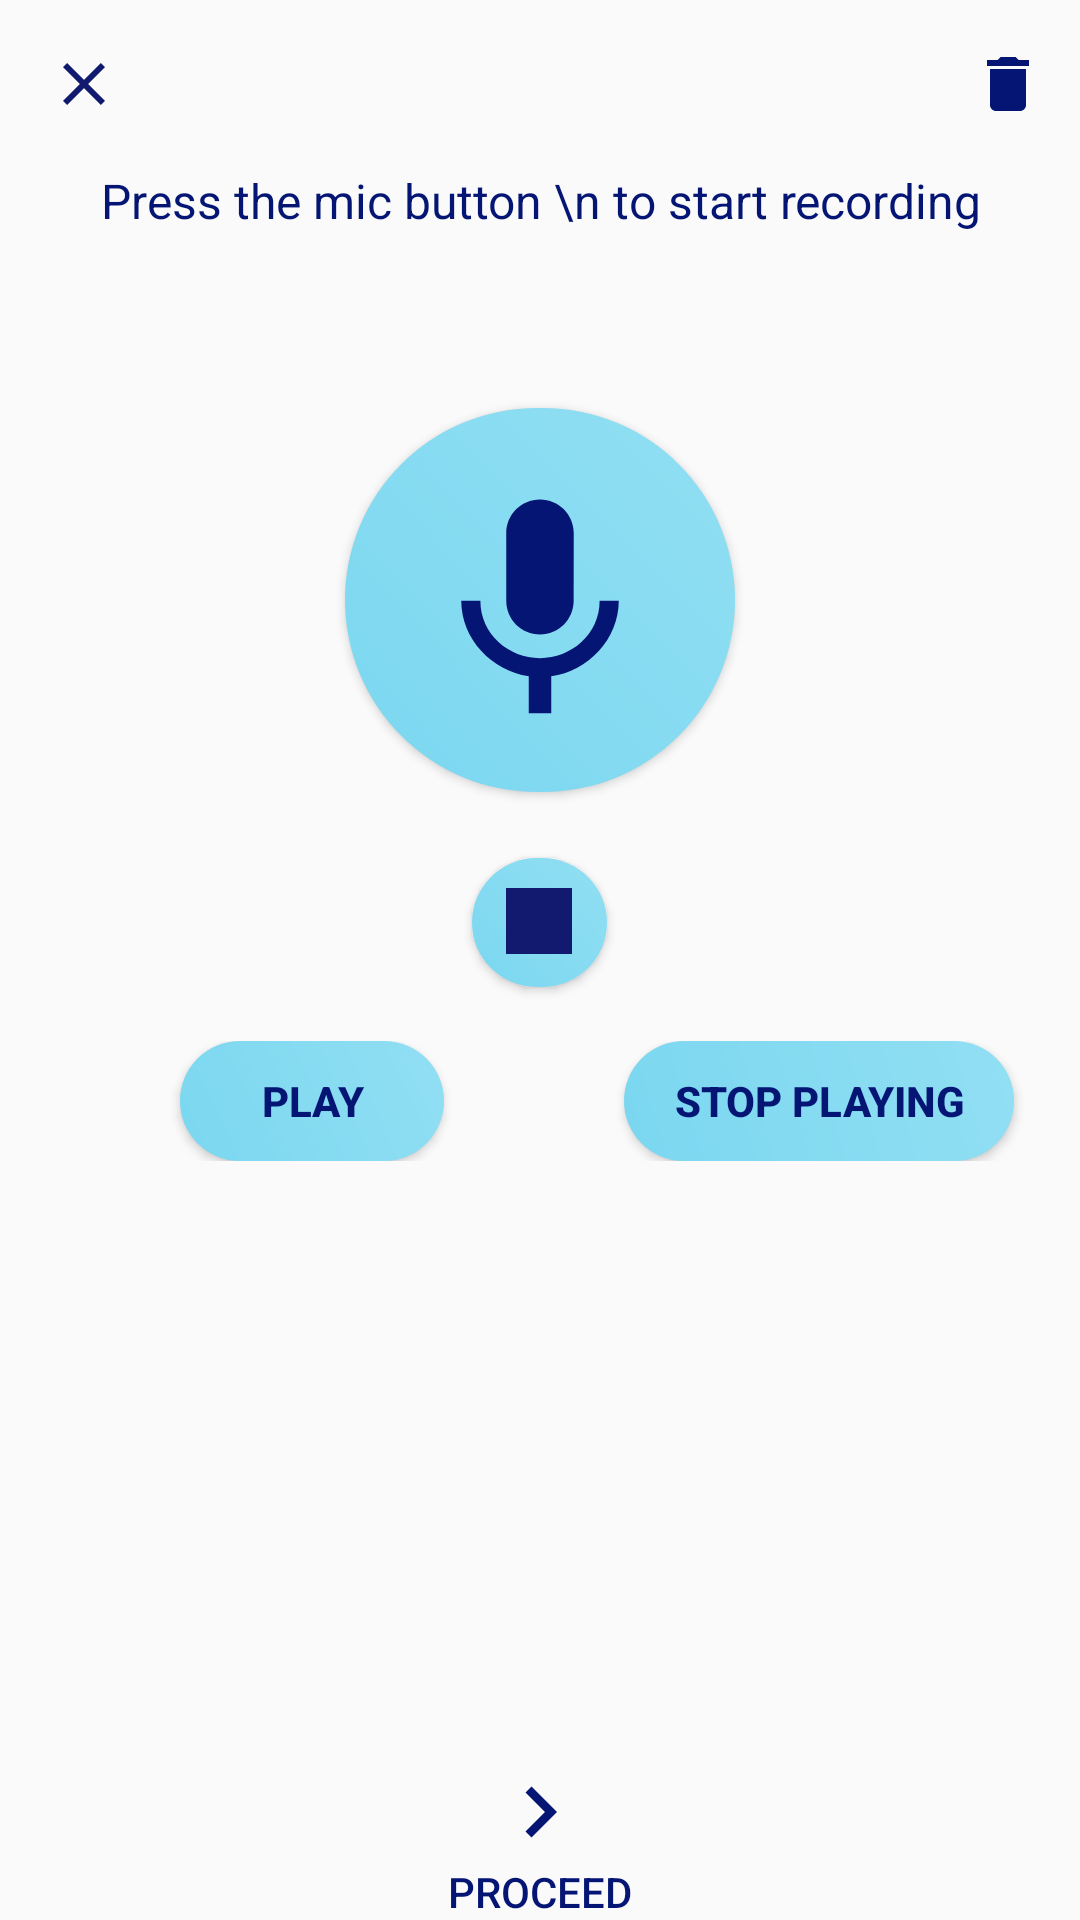

Screen size 1080px x 1920px. Icon name, then its center in pixels as point (x, y):
close: point (84, 84)
